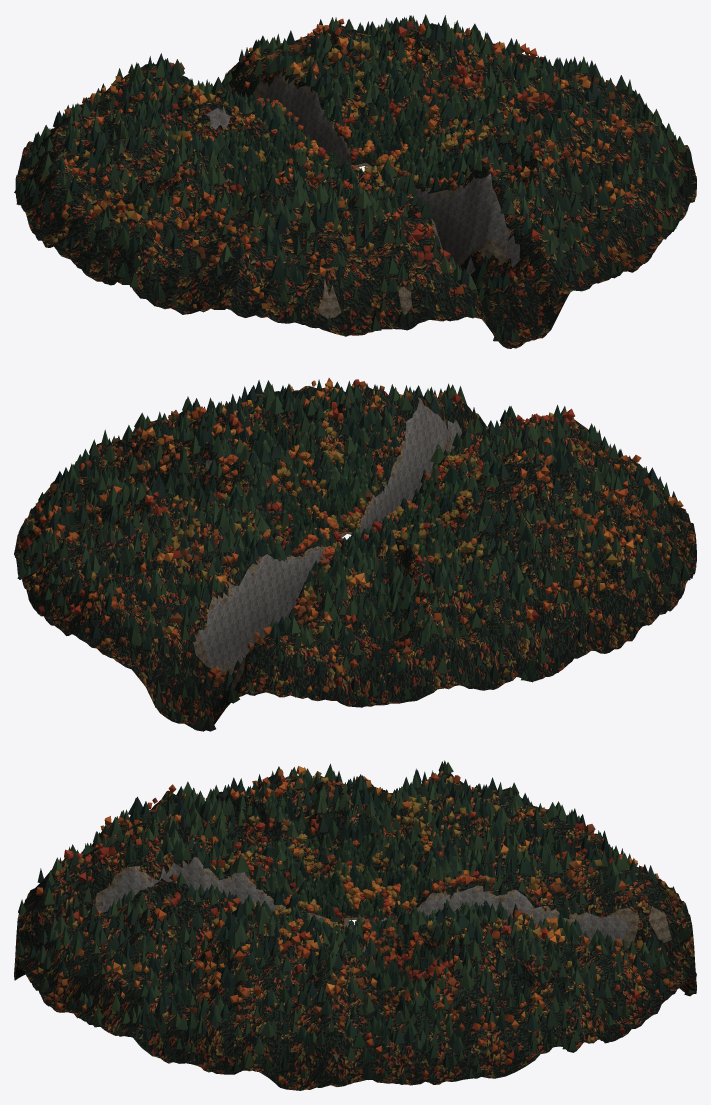
Rendered from backdrop_near_rect_duneW_autumn.glb.
3 renders of one model, top to bottom at view 1: azimuth 30°, elevation 25°; view 2: azimuth 150°, elevation 25°; view 3: azimuth 270°, elevation 25°, orthographic.
Parts seen in each view (by area): view 1: near_land_S, near_land_W, trees_land_S_0, trees_land_W_0, trees_land_E_0, trees_land_N_0, near_land_E, near_land_N; view 2: near_land_N, near_land_W, trees_land_N_0, trees_land_W_0, trees_land_E_0, trees_land_S_0, near_land_E, near_land_S; view 3: near_land_E, trees_land_E_0, near_land_S, trees_land_W_0, near_land_N, trees_land_N_0, trees_land_S_0, near_land_W.
Boxes of the visible parts, x1,y1,x2,y2 form: near_land_S: [267, 122, 685, 348]; near_land_W: [15, 101, 339, 317]; trees_land_S_0: [272, 113, 680, 341]; trees_land_W_0: [14, 93, 339, 309]; trees_land_E_0: [363, 15, 693, 214]; trees_land_N_0: [33, 14, 429, 167]; near_land_E: [360, 24, 696, 216]; near_land_N: [27, 23, 435, 168]; near_land_N: [26, 505, 446, 731]; near_land_W: [393, 456, 696, 690]; trees_land_N_0: [34, 492, 438, 731]; trees_land_W_0: [374, 450, 692, 685]; trees_land_E_0: [17, 380, 350, 579]; trees_land_S_0: [279, 378, 677, 533]; near_land_E: [14, 392, 353, 588]; near_land_S: [274, 385, 668, 534]; near_land_E: [115, 912, 596, 1090]; trees_land_E_0: [116, 898, 591, 1086]; near_land_S: [14, 813, 344, 1035]; trees_land_W_0: [130, 760, 580, 915]; near_land_N: [380, 815, 696, 1043]; trees_land_N_0: [372, 804, 696, 1034]; trees_land_S_0: [15, 796, 342, 1033]; near_land_W: [147, 770, 595, 920].
Bounding box in the file's own units: 576 × 173 × 576.
Materials: 4 (3 with a texture image).
